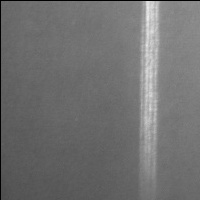scratches: (138, 1, 163, 191)
